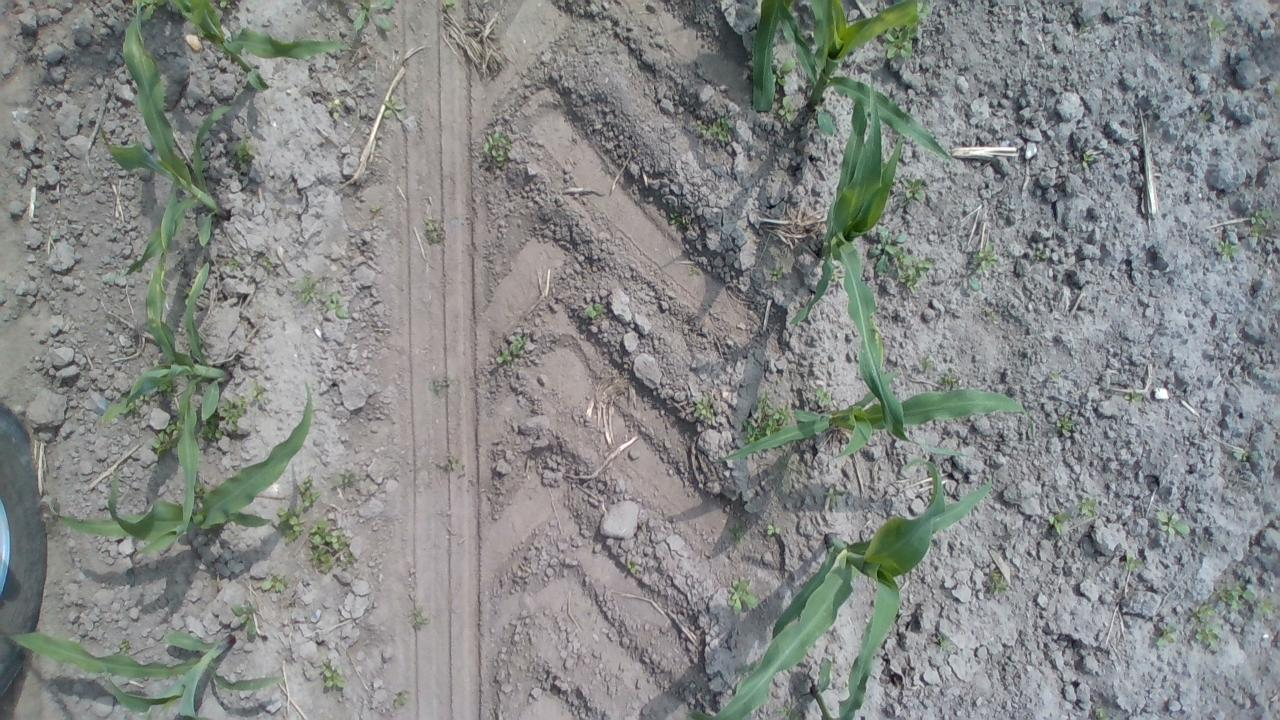Maize: (684, 458, 992, 720), (789, 72, 961, 456), (47, 380, 316, 558), (97, 1, 232, 288), (102, 251, 236, 532), (708, 368, 1036, 456), (776, 0, 950, 163), (9, 629, 285, 720), (176, 0, 349, 93), (752, 0, 790, 116), (808, 657, 871, 720)
Weeds: (308, 515, 356, 573), (746, 393, 793, 444), (867, 223, 906, 279), (896, 253, 938, 300), (1210, 578, 1256, 612), (352, 0, 396, 32), (274, 505, 308, 543), (482, 132, 514, 171), (726, 578, 758, 614), (970, 238, 1004, 270), (698, 114, 732, 146), (219, 395, 250, 430), (886, 28, 919, 60), (496, 334, 528, 366), (288, 274, 320, 306), (150, 420, 178, 456), (899, 172, 930, 204), (232, 603, 262, 636), (1158, 510, 1194, 536), (322, 290, 352, 320), (296, 472, 320, 509), (1247, 207, 1277, 236), (320, 658, 348, 688), (1194, 624, 1222, 653), (427, 374, 457, 401), (820, 480, 849, 506), (1216, 236, 1242, 264), (234, 136, 260, 164), (407, 604, 433, 631), (1154, 622, 1180, 648), (423, 216, 446, 245), (382, 96, 408, 121), (776, 56, 796, 88), (1190, 603, 1220, 624), (1074, 496, 1100, 520), (692, 396, 716, 421), (989, 568, 1008, 598), (1206, 13, 1226, 41), (1050, 508, 1070, 536), (258, 574, 289, 592), (777, 701, 804, 720), (1054, 412, 1076, 434), (1232, 448, 1262, 463), (392, 688, 412, 710), (201, 420, 223, 440), (434, 454, 458, 472), (334, 468, 358, 486), (1254, 595, 1275, 615), (939, 368, 960, 388), (158, 381, 180, 400), (778, 96, 794, 122), (251, 380, 269, 403), (728, 524, 748, 544), (584, 302, 606, 320), (1123, 552, 1144, 570), (917, 353, 936, 372), (1122, 389, 1145, 404), (813, 386, 832, 404), (667, 211, 688, 226), (969, 274, 984, 294), (832, 264, 845, 285), (936, 630, 950, 649), (1094, 706, 1110, 720), (766, 523, 782, 537), (771, 268, 785, 284), (1032, 248, 1048, 262), (260, 253, 274, 268), (228, 256, 240, 273), (1082, 152, 1096, 166), (626, 558, 638, 574), (984, 307, 996, 323), (1196, 111, 1212, 122), (446, 0, 462, 11), (689, 264, 701, 276), (1050, 369, 1063, 380), (219, 0, 232, 9), (328, 99, 341, 108), (1076, 25, 1086, 36), (332, 112, 343, 122), (1273, 86, 1280, 98), (371, 205, 382, 212)
